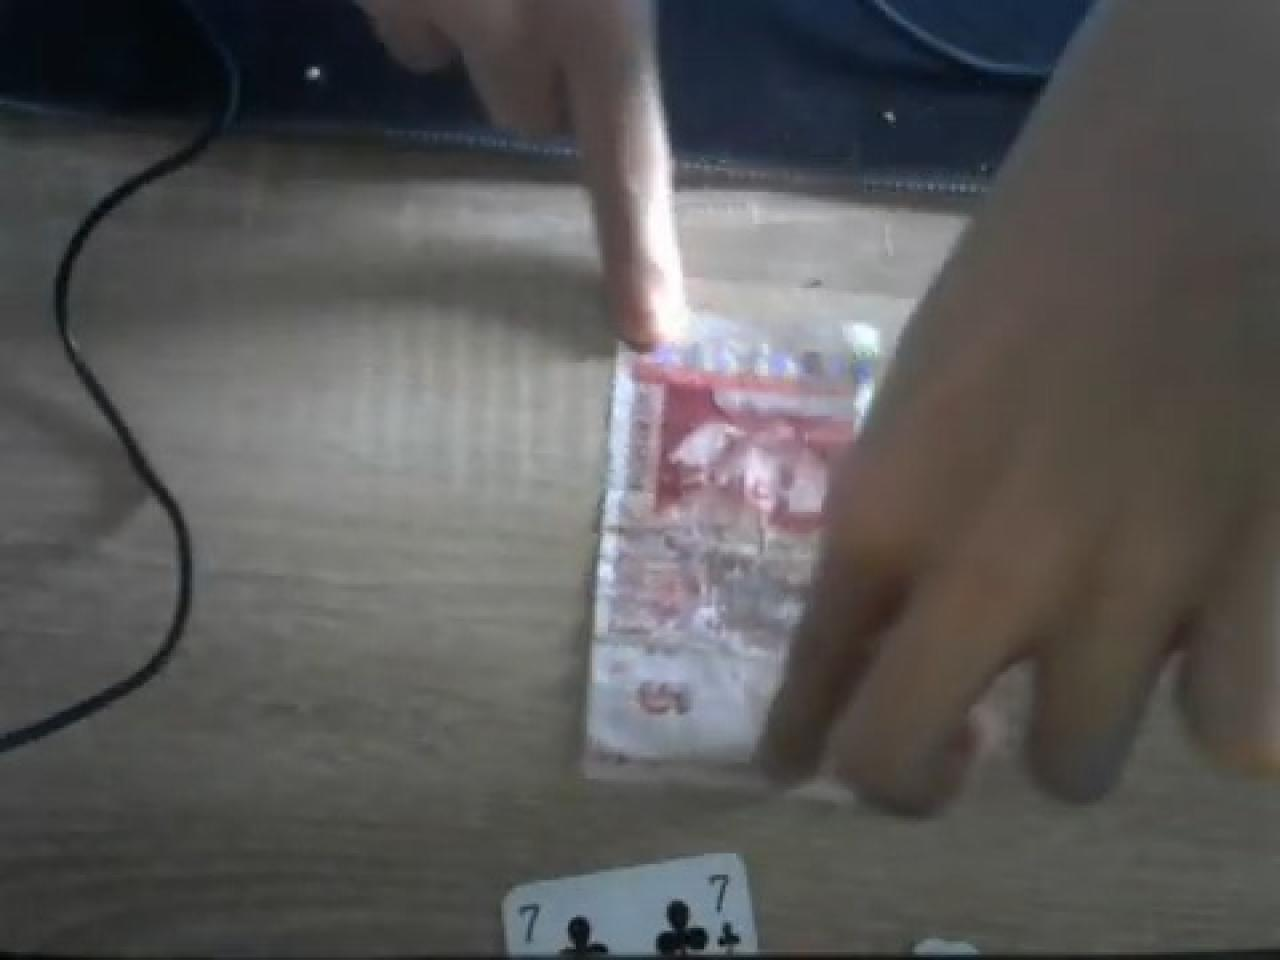5leva: (579, 312, 888, 776), (579, 315, 875, 776)
